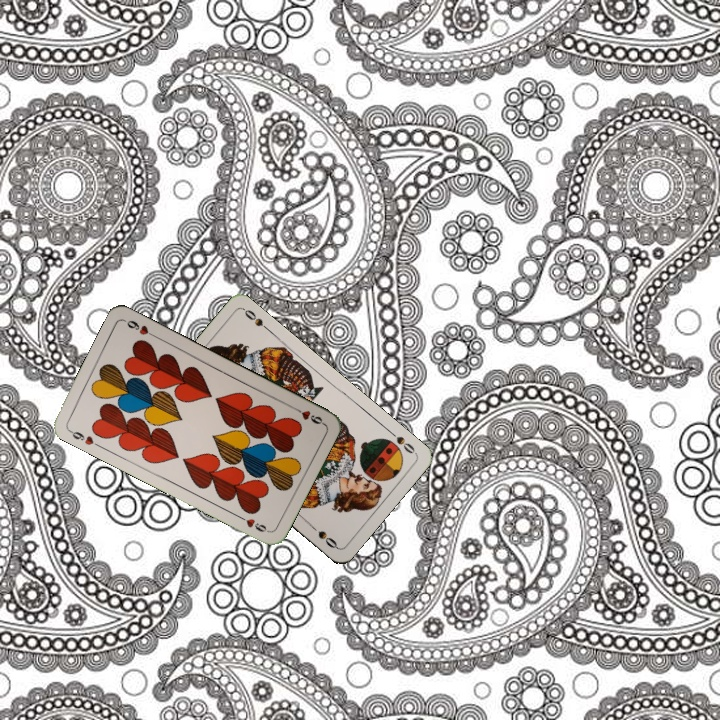H9: (288, 403, 326, 427), (65, 426, 102, 450)
SO: (385, 426, 419, 456)
